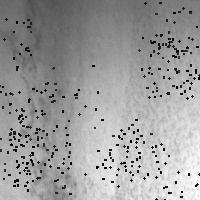pitted_surface: (5, 1, 88, 199), (118, 1, 199, 200), (9, 108, 69, 166), (109, 129, 168, 187), (13, 133, 70, 193), (141, 38, 198, 96), (84, 119, 137, 178), (45, 65, 97, 125), (148, 38, 200, 97), (138, 2, 196, 54), (0, 85, 44, 144), (0, 133, 32, 188), (154, 162, 200, 200), (0, 17, 30, 68)
